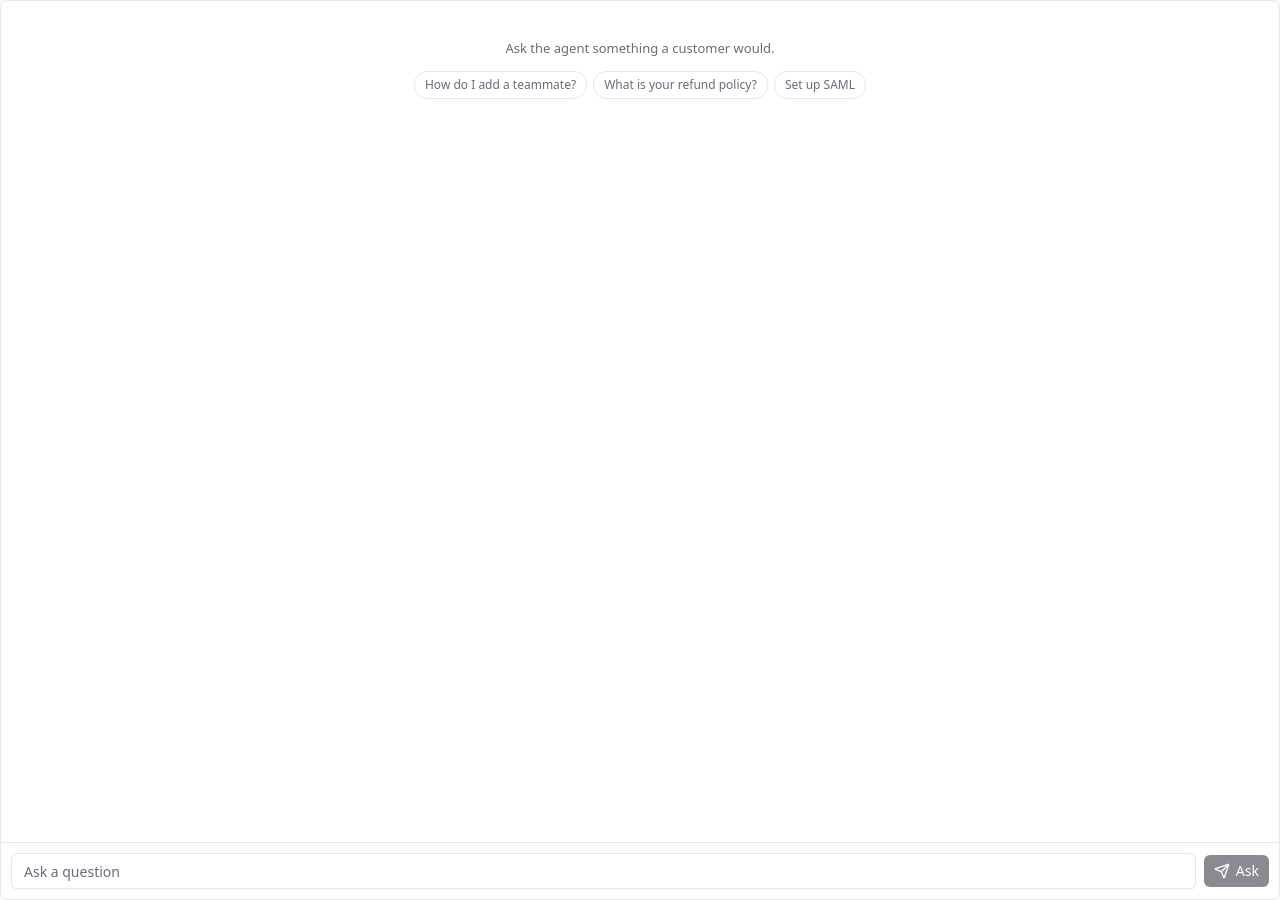
Test case: the agent test console › says so when nothing matched instead of answering anyway
The width and height of the screenshot is (1280, 900).
Type "what is the airspeed velocity of a swallow" into the field named "ask the agent" at (603, 871), box x1=11 y1=853 x2=1196 y2=889
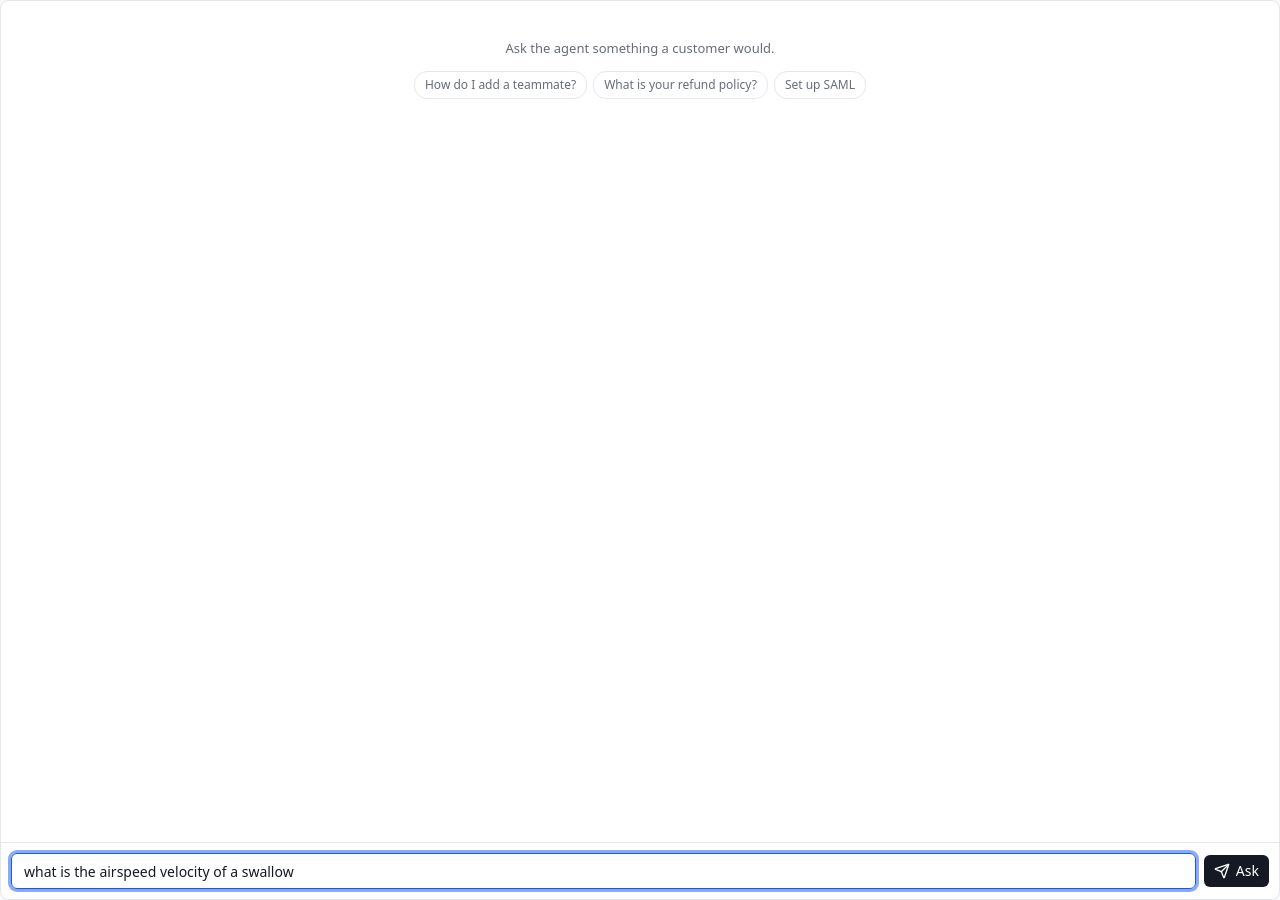
Click the button "Ask" at (1236, 871), box x1=1204 y1=855 x2=1269 y2=887
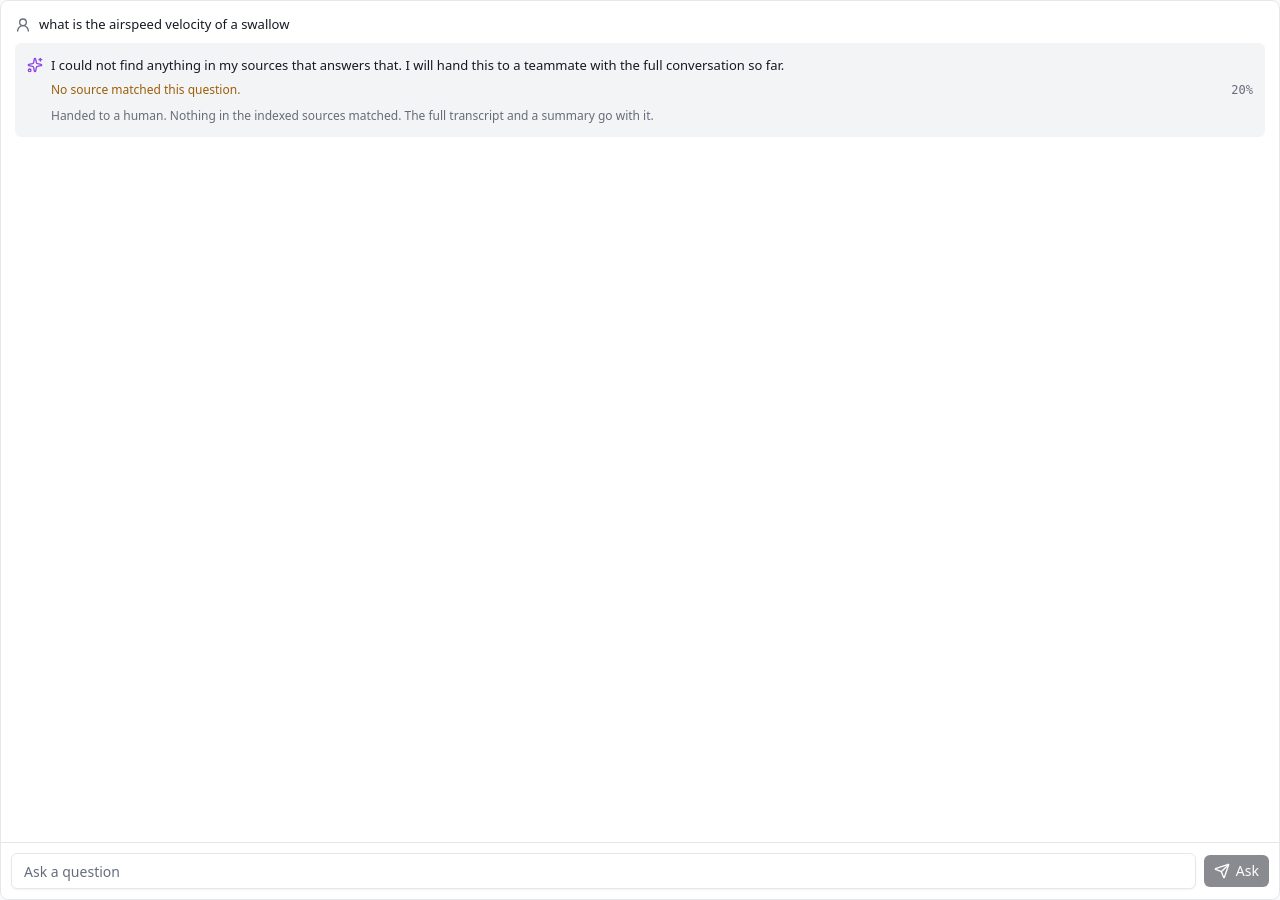
Check: the text "No source matched this question." is shown, box x1=51 y1=81 x2=240 y2=99
Check: the text "hand this to a teammate" is shown, box x1=51 y1=56 x2=784 y2=74
